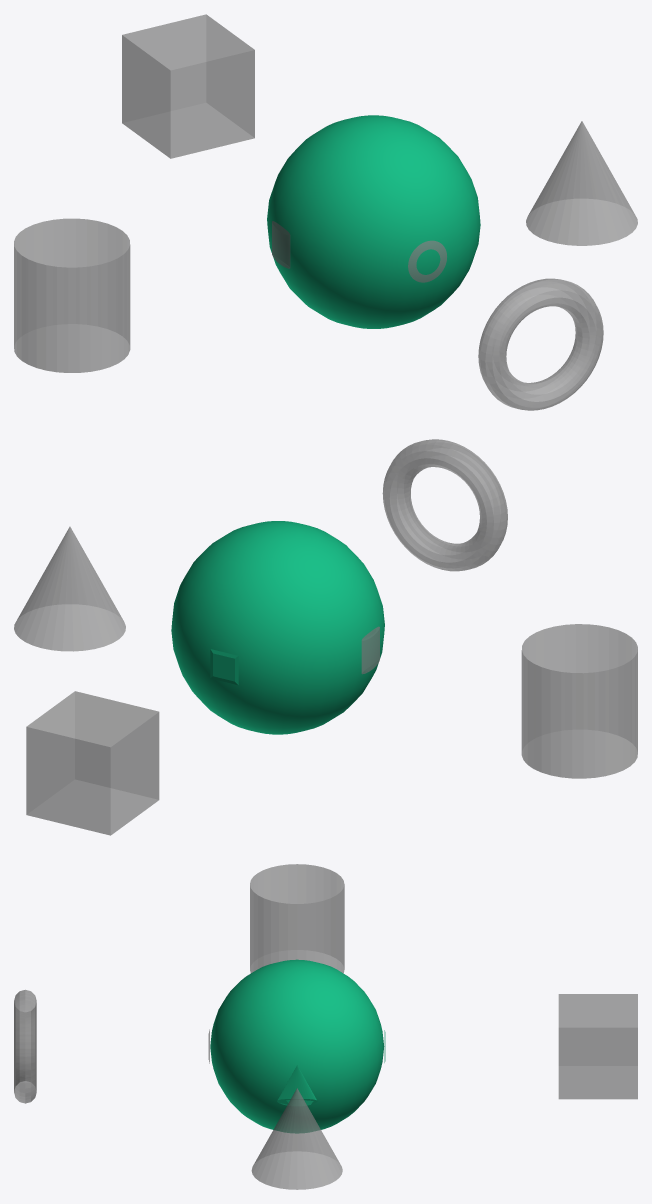
File: 14_Solid angle of objects.glb
3 renders of one model, top to bottom at view 1: azimuth 30°, elevation 25°; view 2: azimuth 150°, elevation 25°; view 3: azimuth 270°, elevation 25°, orthographic. The views are drawn at different scales.
Visible parts, largest first — view 1: Sphere, Cylinder, Cube, Torus, Cone, Torus_Projection, Cylinder_Projection; view 2: Sphere, Cylinder, Cube, Torus, Cone, Cube_Projection.001, Cylinder_Projection; view 3: Sphere, Cylinder, Cube, Cone, Torus, Cone_Projection.001.
Part boxes in pixels (box(x1,y1,x2,y2)): Sphere: box(267, 115, 480, 328); Cylinder: box(14, 218, 130, 372); Cube: box(122, 14, 254, 158); Torus: box(478, 278, 603, 410); Cone: box(526, 121, 637, 245); Torus_Projection: box(408, 240, 446, 282); Cylinder_Projection: box(272, 221, 290, 268); Sphere: box(171, 521, 384, 734); Cylinder: box(521, 624, 637, 778); Cube: box(26, 691, 159, 835); Torus: box(382, 439, 507, 571); Cone: box(14, 526, 125, 651); Cube_Projection.001: box(210, 649, 238, 685); Cylinder_Projection: box(361, 626, 379, 674); Sphere: box(210, 959, 384, 1133); Cylinder: box(250, 864, 344, 973); Cube: box(558, 994, 637, 1099); Cone: box(251, 1088, 342, 1189); Torus: box(14, 989, 36, 1103); Cone_Projection.001: box(277, 1065, 317, 1105).
Bounding box in the file's own units: 6.39 × 1.95 × 6.98.
